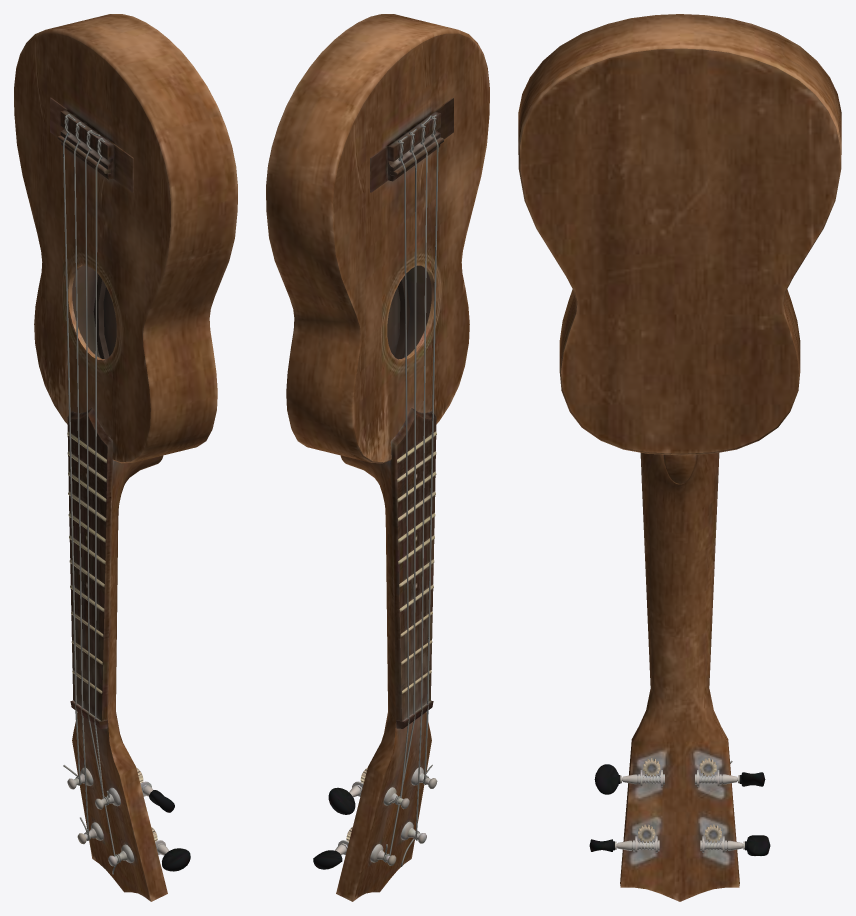
File: odd_cittern.glb
The picture shows the model from 3 angles, left to right: view 1: azimuth 30°, elevation 25°; view 2: azimuth 150°, elevation 25°; view 3: azimuth 270°, elevation 25°; orthographic projection.
Parts seen in each view (by area): view 1: odd_cittern; view 2: odd_cittern; view 3: odd_cittern.
Part boxes in pixels (x1,y1,x2,y2): odd_cittern: [14, 14, 237, 901]; odd_cittern: [266, 14, 489, 901]; odd_cittern: [518, 14, 841, 901].
Bounding box in the file's own units: 0.0914 × 0.9485 × 0.3201.
Materials: 1 (1 with a texture image).
